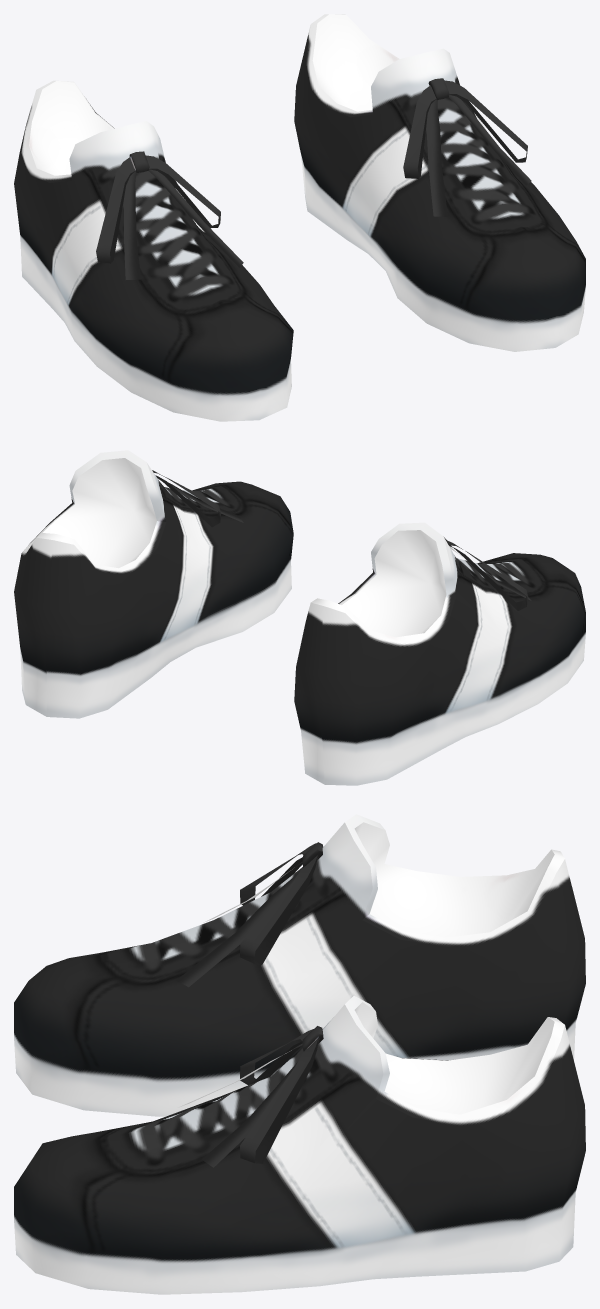
File: shoes_-_clothing.glb
3 renders of one model, top to bottom at view 1: azimuth 30°, elevation 25°; view 2: azimuth 150°, elevation 25°; view 3: azimuth 270°, elevation 25°, orthographic. The views are drawn at different scales.
Parts seen in each view (by area): view 1: R - Shoe, L - Shoe; view 2: L - Shoe, R - Shoe; view 3: R - Shoe, L - Shoe.
Part boxes in pixels (left/top/right/bottom): R - Shoe: left=294, top=14, right=585, bottom=351; L - Shoe: left=14, top=80, right=293, bottom=421; L - Shoe: left=294, top=522, right=585, bottom=785; R - Shoe: left=14, top=450, right=293, bottom=718; R - Shoe: left=14, top=995, right=585, bottom=1294; L - Shoe: left=14, top=814, right=585, bottom=1116.
Bounding box in the file's own units: 0.2228 × 0.096 × 0.1979.
3 materials, 3 textured.
